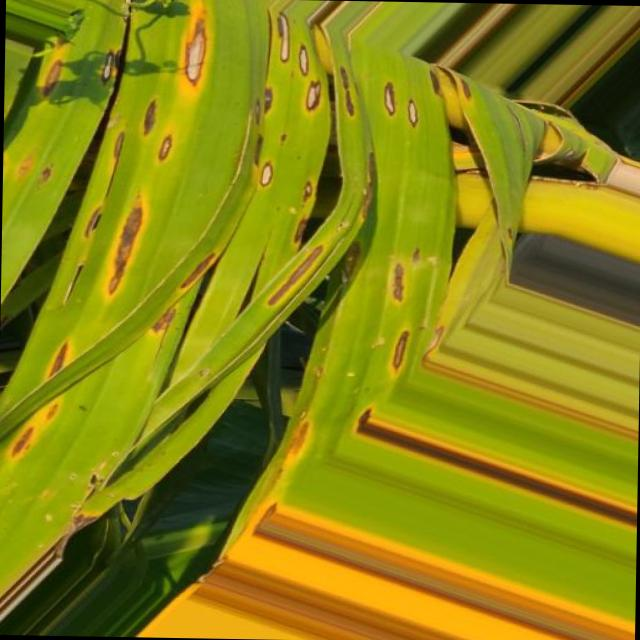Banana_Yellow_Sigatoka: (264, 4, 448, 142), (100, 190, 154, 308), (170, 5, 222, 121), (263, 248, 340, 320), (384, 242, 426, 316)
